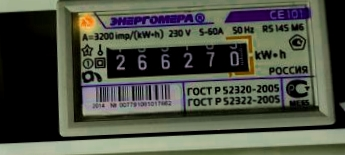0: (228, 49, 241, 67)
2: (113, 52, 127, 71), (182, 50, 194, 69)
6: (136, 52, 149, 71), (159, 52, 172, 71)
7: (205, 49, 217, 68)
screen: (95, 32, 260, 88)
